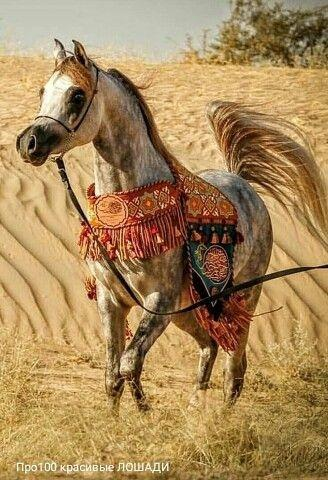horse: (15, 37, 327, 419)
